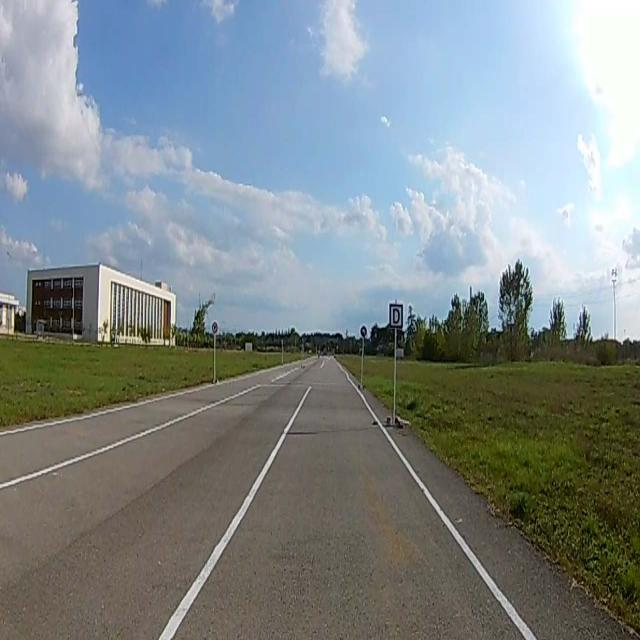durak: (389, 305, 402, 327)
